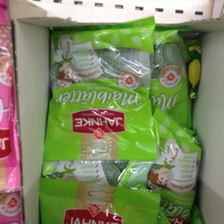candy: (45, 27, 158, 158), (124, 114, 202, 218)
